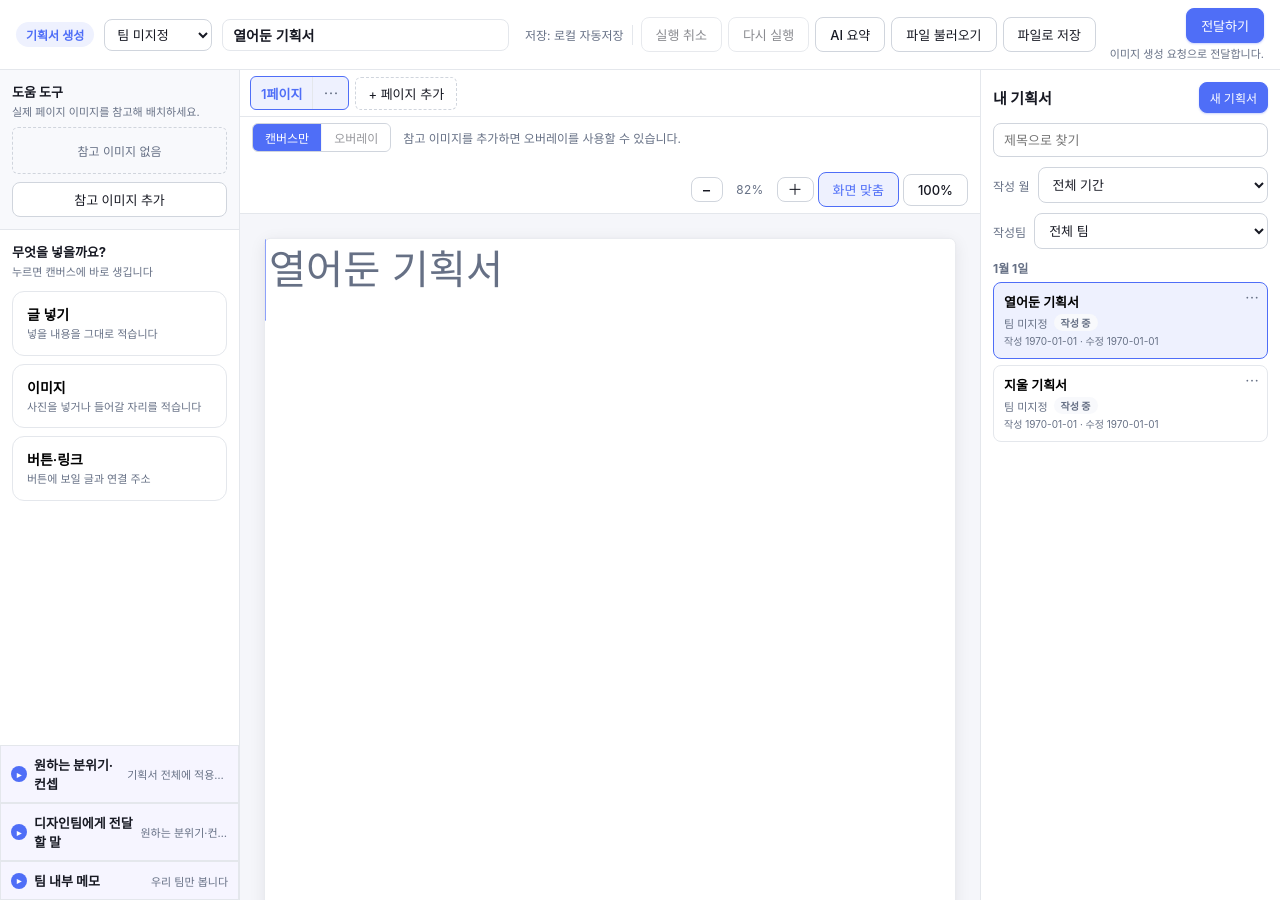
§5 기획서 삭제 › removes a brief that is not open and leaves the open one on screen
Expected: the text "지울 기획서" is shown, [1004, 375, 1067, 394]
Click the heading named "지울 기획서 메뉴" at (1252, 380), box [1245, 372, 1259, 389]
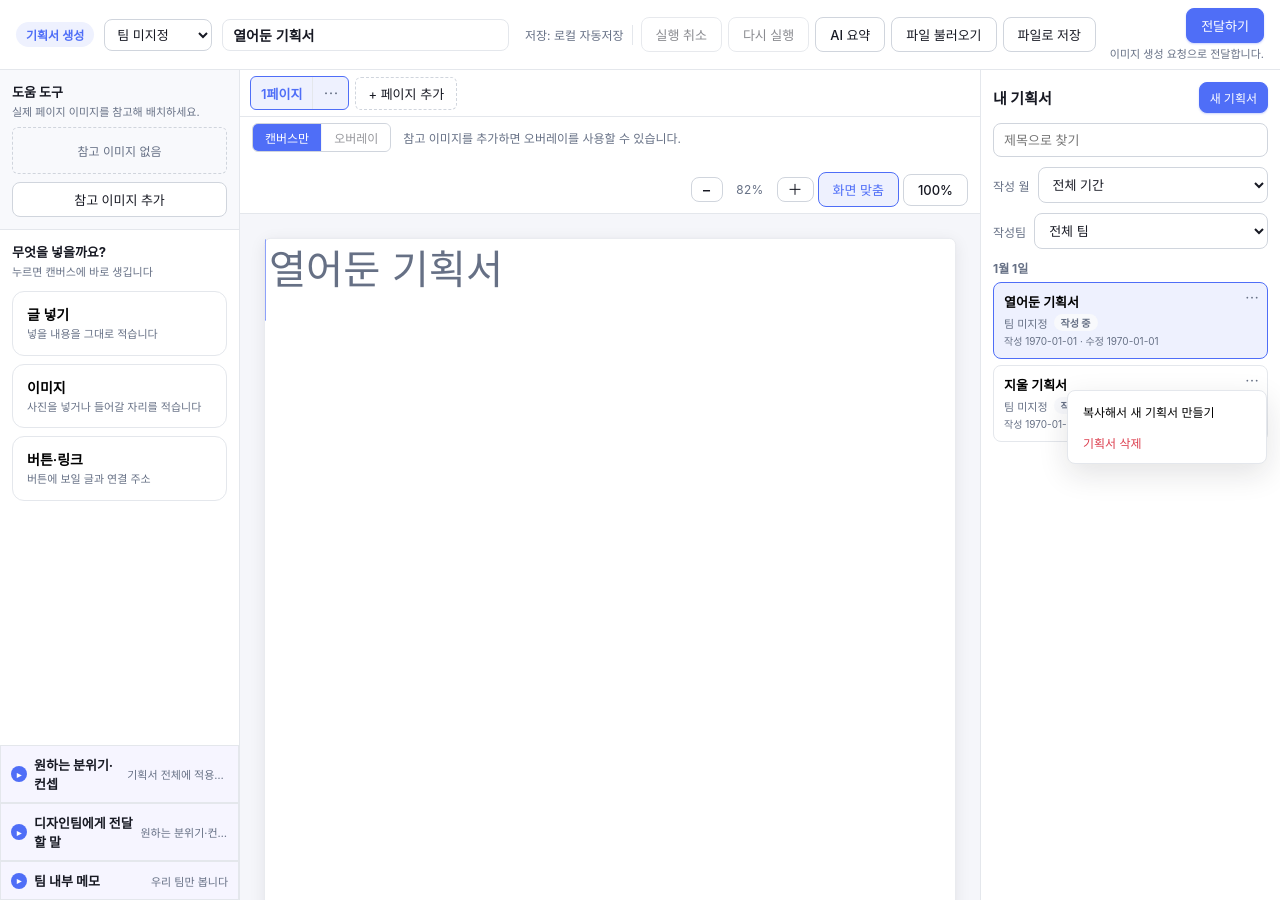
Click the button "기획서 삭제" at (1167, 442), box [1073, 427, 1261, 458]
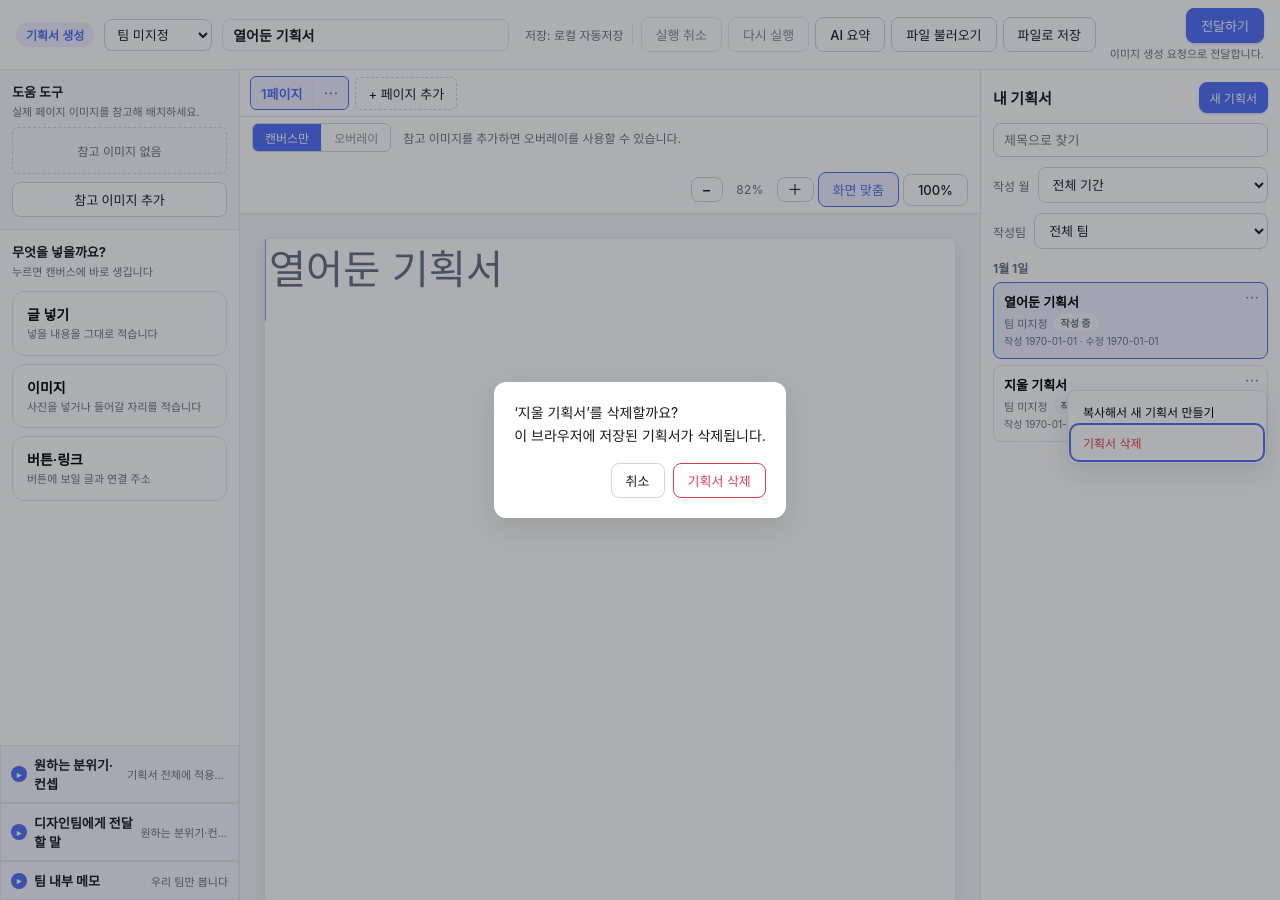
Click the button "기획서 삭제" at (719, 480), box [672, 463, 766, 498]
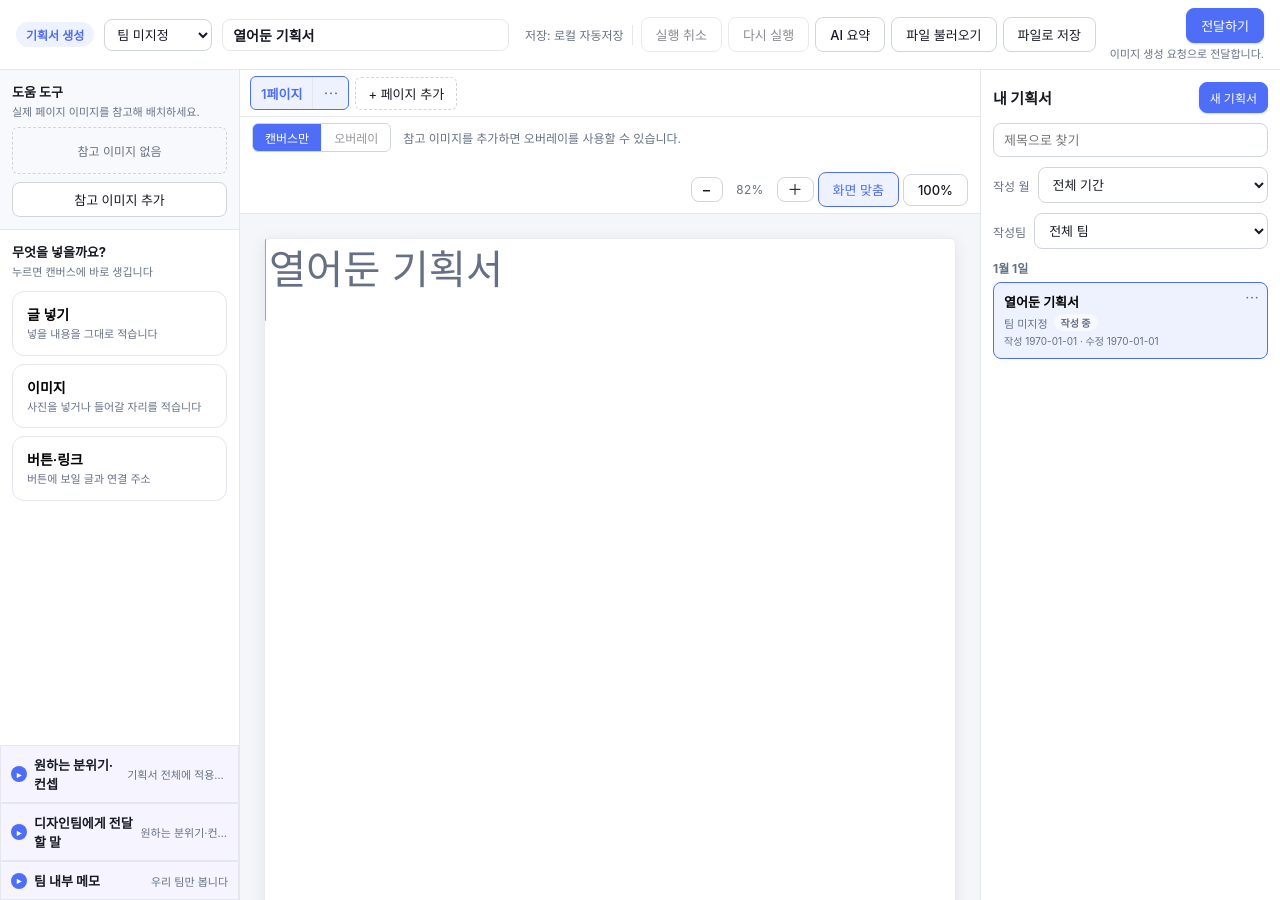
Expected: the text "열어둔 기획서" below "82" is shown, [269, 245, 503, 294]
Expected: the button "지울 기획서" is gone
